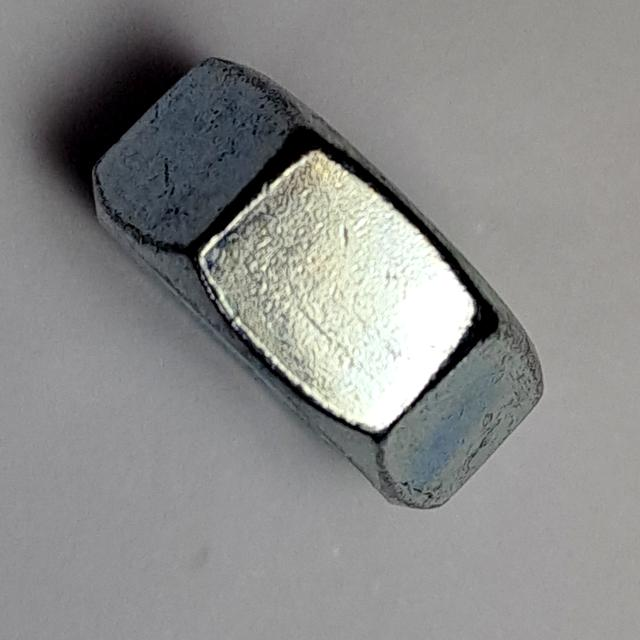Side_Excellent: (83, 49, 556, 516)
